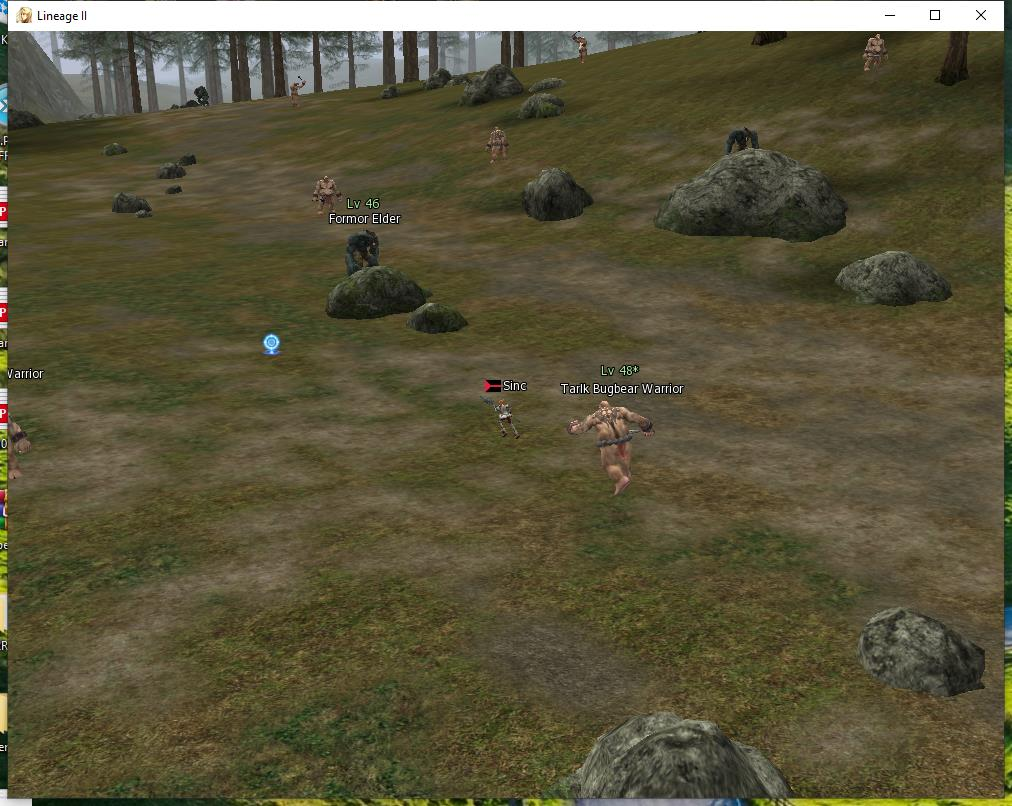monster: (550, 354, 694, 504), (332, 201, 401, 279), (857, 33, 901, 75), (711, 121, 767, 148), (311, 159, 337, 212), (186, 80, 221, 110), (491, 125, 520, 161), (284, 76, 310, 115)
